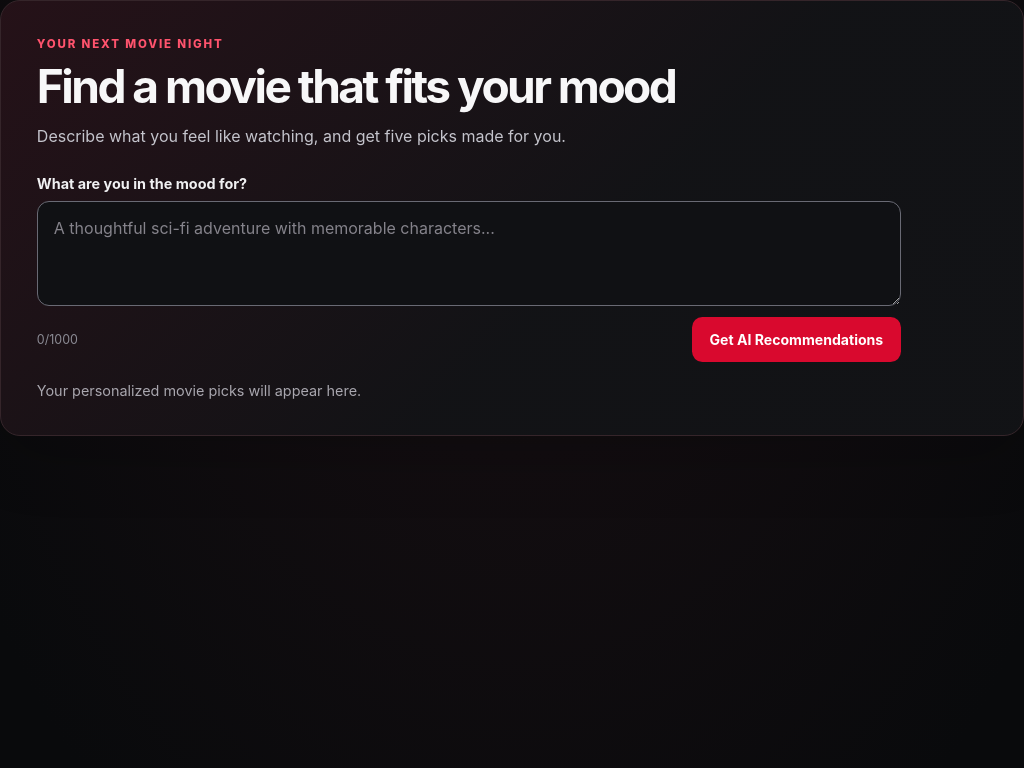
Test: AIRecommendationSection › validates an empty preference without calling the API
Click the button "Get AI Recommendations": click(796, 339) [692, 316, 901, 362]
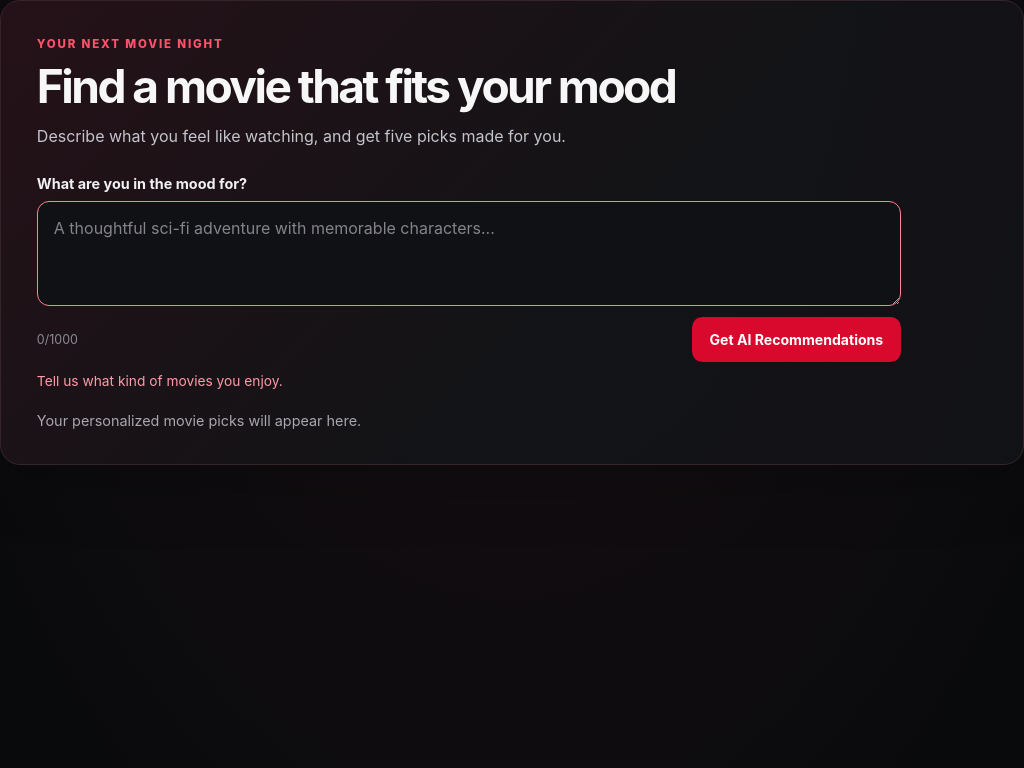
Expected: the message reads "Tell us what kind of movies you enjoy.", [37, 373, 283, 389]
